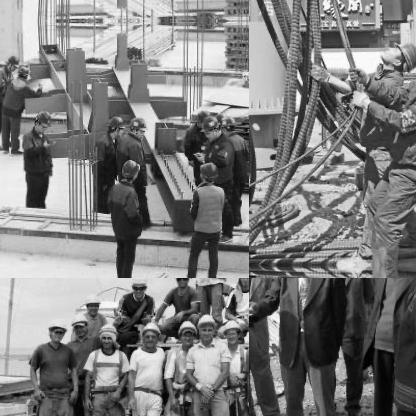Helmet: (380, 43, 415, 69), (96, 320, 118, 352), (42, 318, 66, 344), (222, 316, 242, 346), (126, 115, 148, 142), (197, 312, 216, 342), (140, 320, 160, 348), (177, 318, 196, 347), (195, 160, 217, 184), (33, 106, 51, 134), (200, 115, 220, 139), (68, 310, 88, 334), (121, 156, 138, 184), (103, 113, 121, 137), (129, 278, 148, 300), (84, 292, 100, 316), (4, 50, 18, 72), (220, 115, 233, 135), (14, 62, 28, 80), (174, 278, 190, 292)
